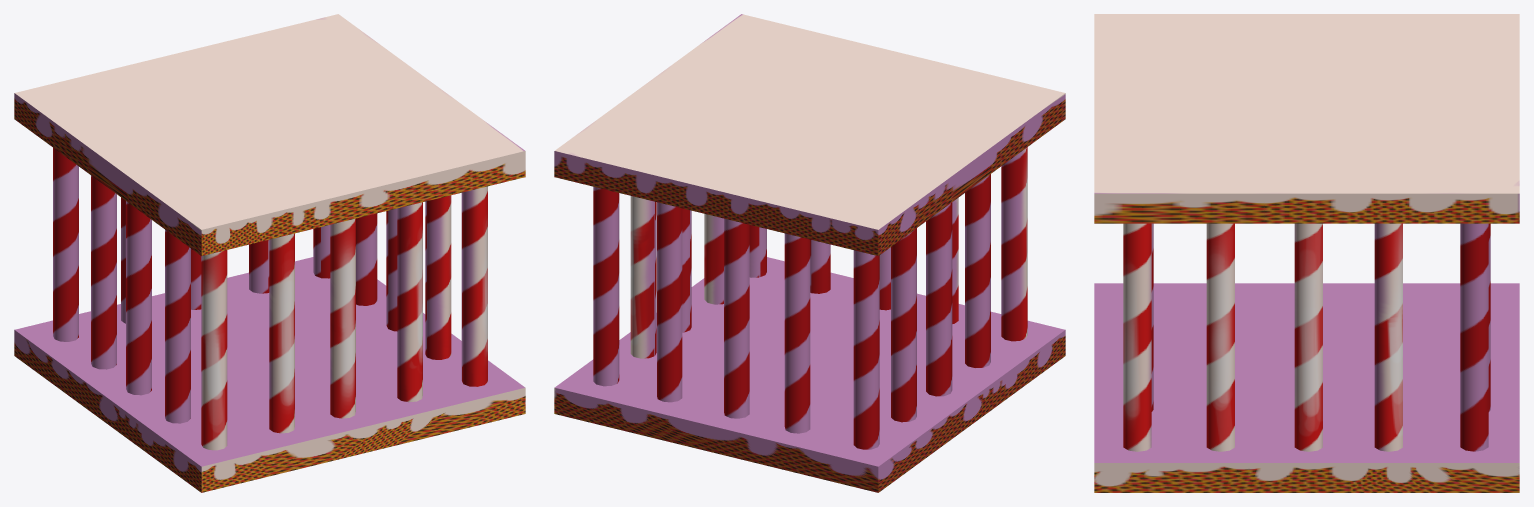
Rendered from prison.fbx.
3 renders of one model, left to right at view 1: azimuth 30°, elevation 25°; view 2: azimuth 150°, elevation 25°; view 3: azimuth 270°, elevation 25°, orthographic. The views are drawn at different scales.
Parts seen in each view (by area): view 1: prison; view 2: prison; view 3: prison.
Part boxes in pixels (left/top/right/bottom): prison: left=14, top=14, right=525, bottom=492; prison: left=554, top=14, right=1065, bottom=492; prison: left=1094, top=14, right=1519, bottom=492.
Size of the model in its own units: 200 by 155 by 200.
